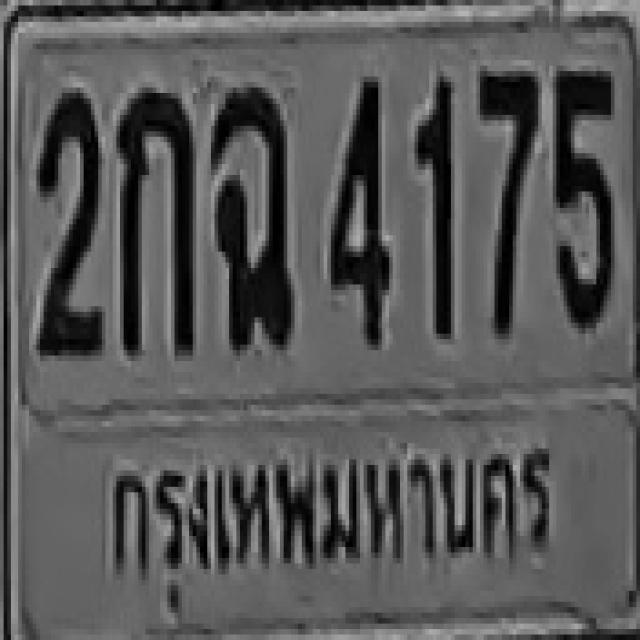1: (414, 74, 451, 336)
10GorGai: (116, 85, 193, 353)
18ChorChing: (207, 82, 291, 345)
2: (35, 85, 100, 353)
4: (327, 71, 389, 345)
5: (553, 66, 611, 328)
7: (478, 65, 536, 334)
Bangkok: (102, 428, 558, 612)
